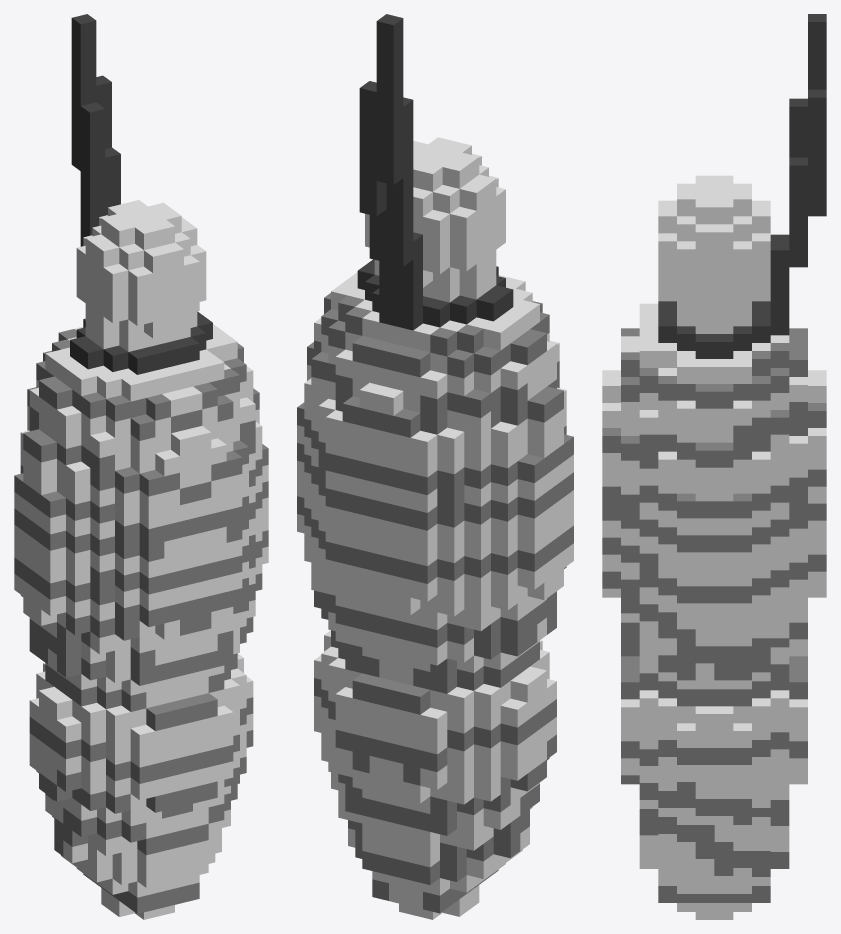
The model's file is Dead man.obj.
The picture shows the model from 3 angles, left to right: view 1: azimuth 30°, elevation 25°; view 2: azimuth 150°, elevation 25°; view 3: azimuth 270°, elevation 25°; orthographic projection. The views are drawn at different scales.
Size of the model in its own units: 14 by 52 by 12.
Materials: 1 (1 with a texture image).
